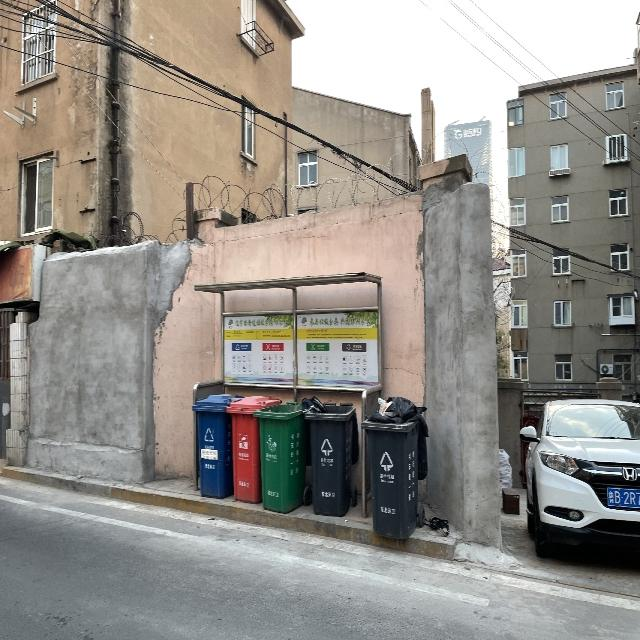garbage: (424, 515, 449, 535)
garbage_bin: (225, 394, 282, 504), (251, 400, 306, 512), (191, 393, 243, 497)
overflow: (358, 394, 428, 540), (301, 395, 356, 517)
